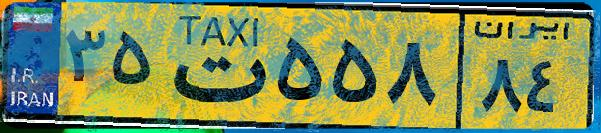3: (57, 26, 110, 100)
4: (525, 38, 570, 115)
5: (270, 28, 330, 110), (330, 28, 385, 110), (110, 28, 158, 98)
8: (385, 28, 445, 110), (475, 38, 525, 113)
ت: (158, 12, 270, 120)
